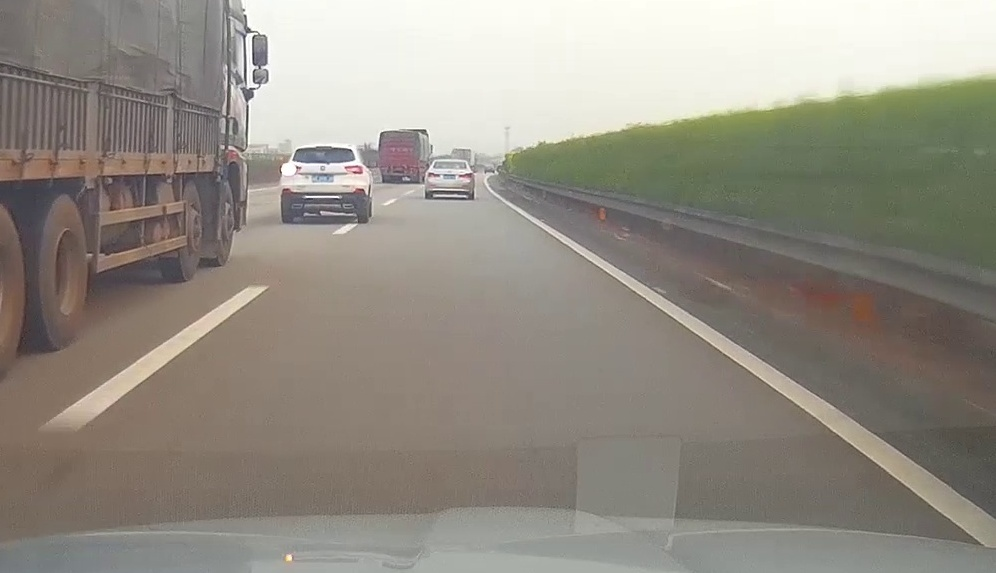L_light: (280, 163, 301, 176), (428, 172, 440, 177)
R_light: (344, 165, 363, 174), (459, 173, 471, 178)
T_light: (316, 146, 332, 148), (447, 162, 454, 163)
day-left: (279, 142, 367, 222)
day-no: (425, 159, 474, 199)
